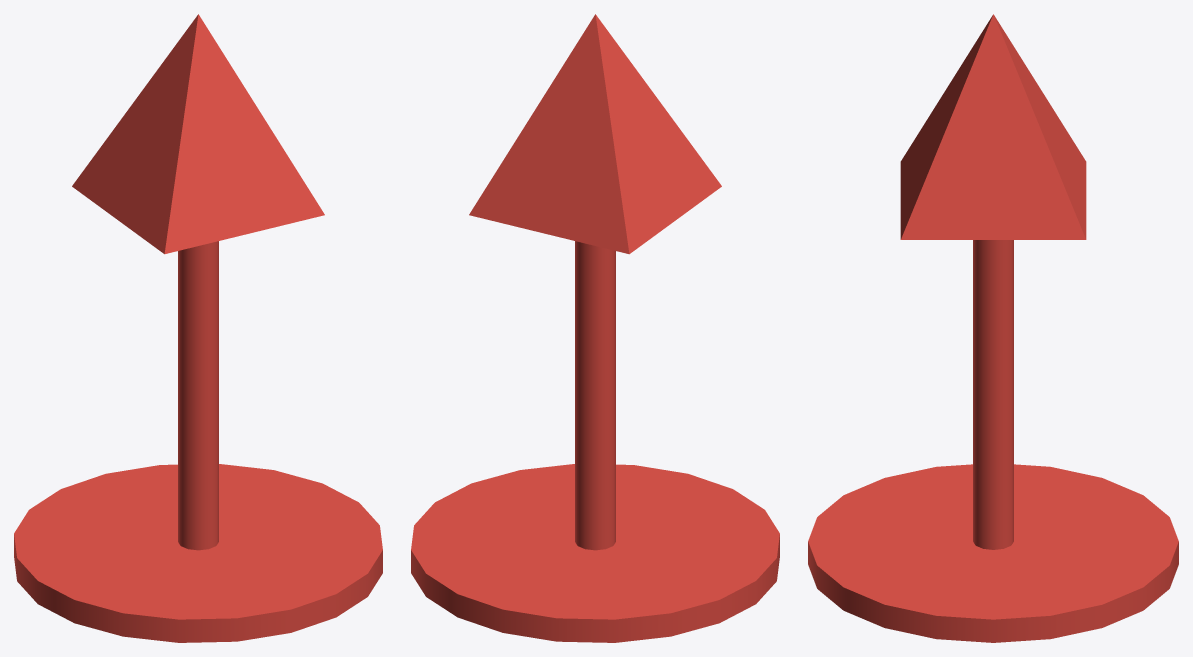
The model's file is marker_infected.glb.
3 renders of one model, left to right at view 1: azimuth 30°, elevation 25°; view 2: azimuth 150°, elevation 25°; view 3: azimuth 270°, elevation 25°, orthographic.
Visible parts, largest first — view 1: EDITOR_ONLY_colored_base, EDITOR_ONLY_marker_tip, EDITOR_ONLY_stem; view 2: EDITOR_ONLY_colored_base, EDITOR_ONLY_marker_tip, EDITOR_ONLY_stem; view 3: EDITOR_ONLY_colored_base, EDITOR_ONLY_marker_tip, EDITOR_ONLY_stem.
Boxes of the visible parts, x1=… form: EDITOR_ONLY_colored_base: x1=14, y1=464, x2=382, y2=642; EDITOR_ONLY_marker_tip: x1=72, y1=14, x2=324, y2=254; EDITOR_ONLY_stem: x1=178, y1=241, x2=218, y2=550; EDITOR_ONLY_colored_base: x1=411, y1=464, x2=779, y2=642; EDITOR_ONLY_marker_tip: x1=469, y1=14, x2=721, y2=254; EDITOR_ONLY_stem: x1=575, y1=241, x2=615, y2=550; EDITOR_ONLY_colored_base: x1=808, y1=464, x2=1178, y2=642; EDITOR_ONLY_marker_tip: x1=900, y1=14, x2=1086, y2=239; EDITOR_ONLY_stem: x1=973, y1=240, x2=1013, y2=549.
Size of the model in its own units: 0.72 by 1.18 by 0.72.
